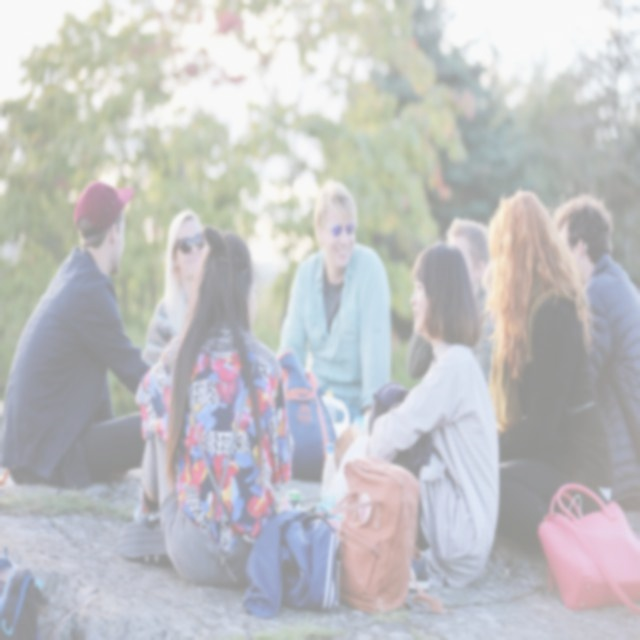pessoa: (331, 242, 498, 588), (133, 227, 295, 581), (486, 190, 612, 560), (275, 179, 393, 422), (551, 194, 640, 516), (406, 214, 496, 392), (141, 208, 209, 370)
